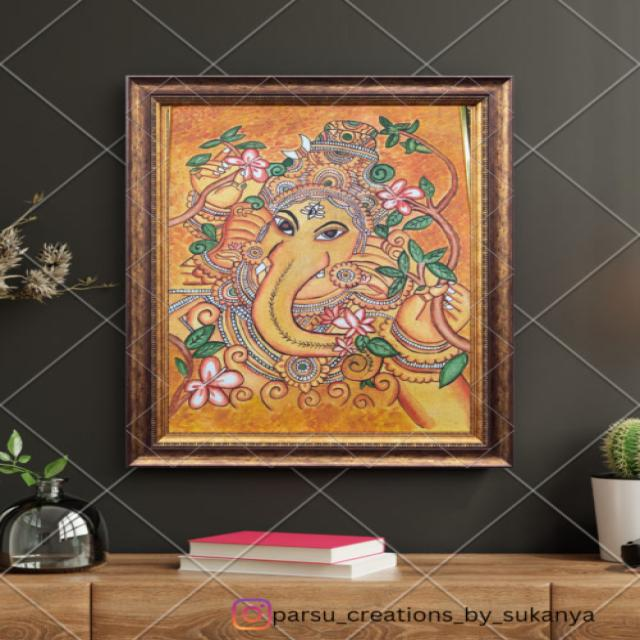painting: (129, 77, 513, 466)
